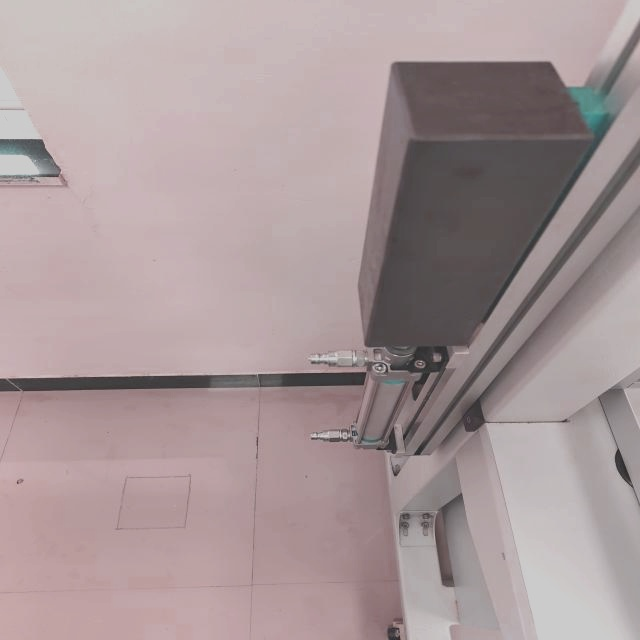load: (301, 57, 619, 456)
